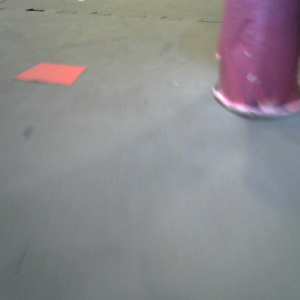right: (201, 1, 300, 121)
